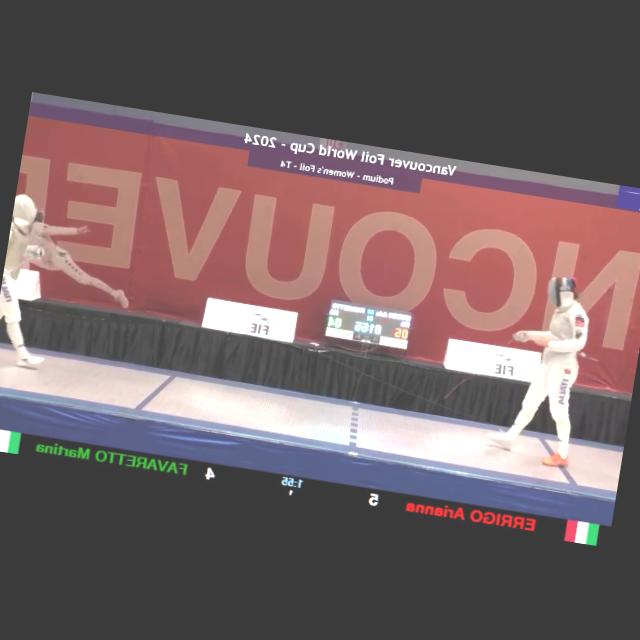blade: (442, 320, 526, 410), (4, 245, 43, 278)
